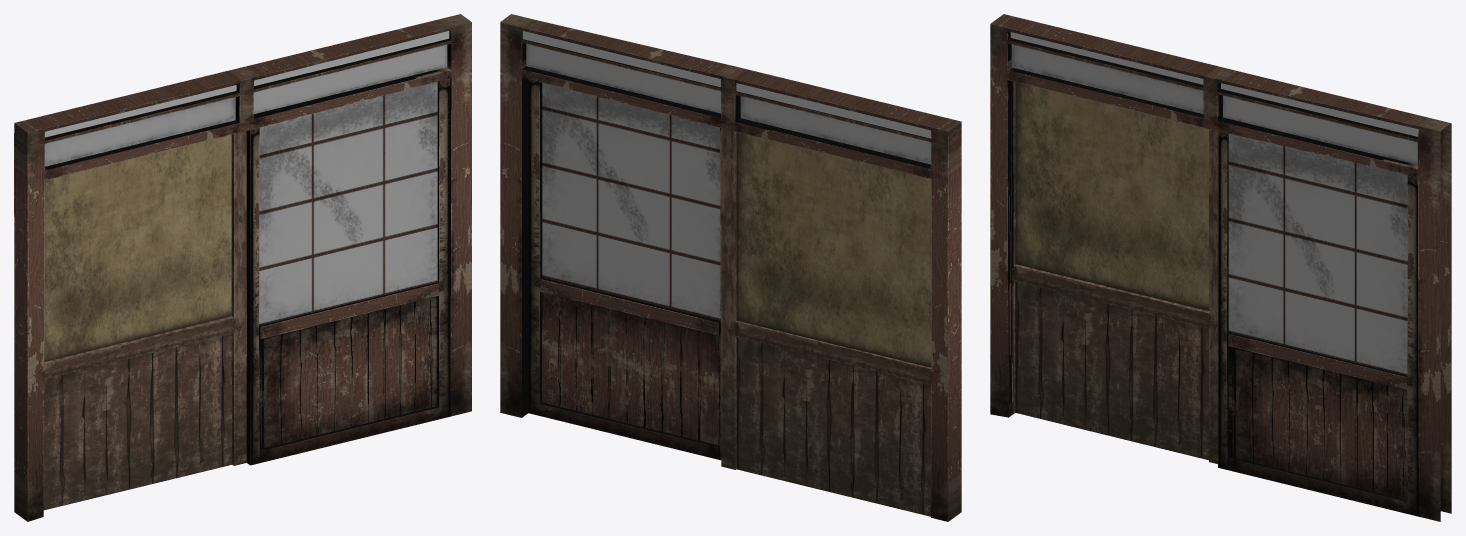
File: Door_New_6.fbx
The picture shows the model from 3 angles, left to right: view 1: azimuth 30°, elevation 25°; view 2: azimuth 150°, elevation 25°; view 3: azimuth 330°, elevation 25°; orthographic projection.
Visible parts, largest first — view 1: pCube66, pCube74.002; view 2: pCube66, pCube74.002; view 3: pCube66, pCube74.002.
Boxes of the visible parts, bbox=[...] form: pCube66: bbox=[14, 14, 471, 521]; pCube74.002: bbox=[246, 78, 451, 465]; pCube66: bbox=[500, 14, 961, 521]; pCube74.002: bbox=[528, 79, 721, 460]; pCube66: bbox=[990, 14, 1451, 521]; pCube74.002: bbox=[1218, 131, 1420, 516].
Bounding box in the file's own units: 6 × 5 × 0.3182.
